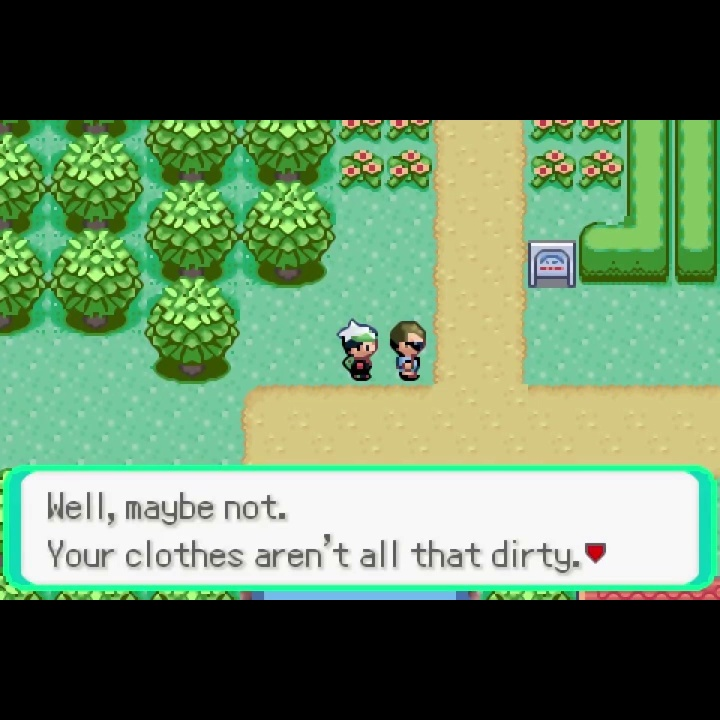npc: (386, 319, 429, 384), (336, 317, 378, 383)
wall: (142, 275, 241, 385), (239, 180, 337, 289), (49, 227, 144, 337), (143, 179, 240, 278), (49, 137, 144, 227), (240, 120, 337, 180), (145, 120, 241, 180), (1, 225, 49, 336), (1, 135, 49, 227), (50, 121, 144, 139), (1, 119, 51, 138)
